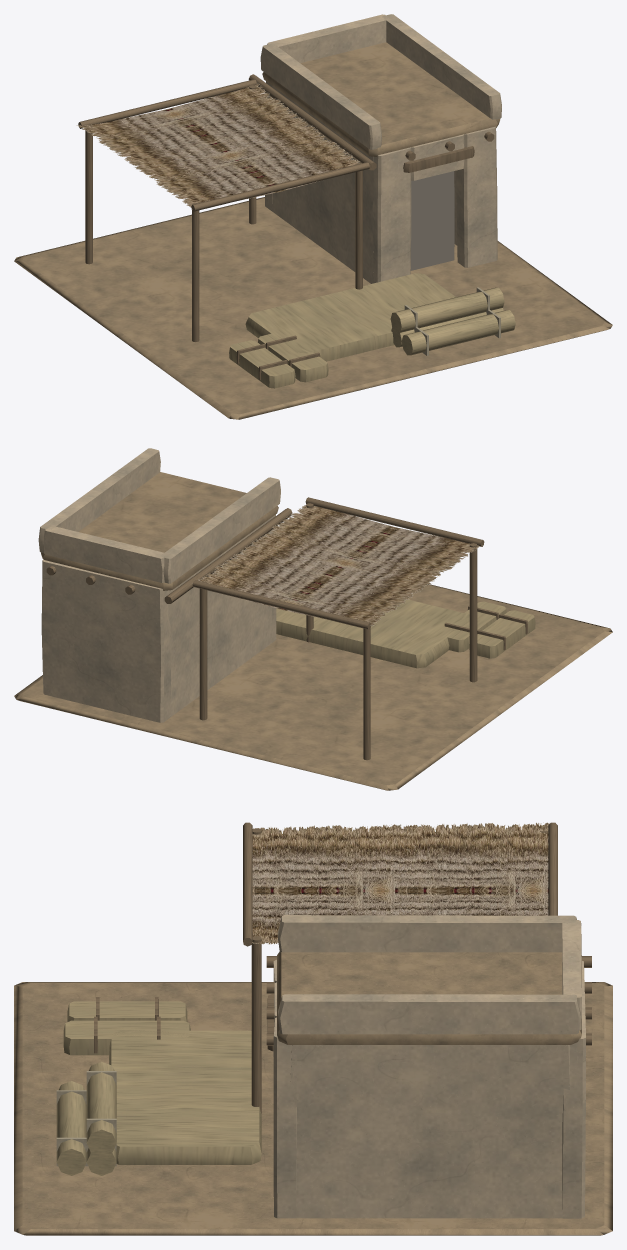
File: matYard.glb
3 renders of one model, top to bottom at view 1: azimuth 30°, elevation 25°; view 2: azimuth 150°, elevation 25°; view 3: azimuth 270°, elevation 25°, orthographic. The views are drawn at different scales.
Visible parts, largest first — view 1: original-matYard-alluvial-earth, original-matYard-warm-clay-plaster, original-matYard-laid-reed-thatch, original-matYard-reed-mat, original-matYard-worn-timber, original-matYard-game-door-shadow; view 2: original-matYard-alluvial-earth, original-matYard-warm-clay-plaster, original-matYard-laid-reed-thatch, original-matYard-reed-mat, original-matYard-worn-timber; view 3: original-matYard-warm-clay-plaster, original-matYard-alluvial-earth, original-matYard-reed-mat, original-matYard-laid-reed-thatch, original-matYard-worn-timber, workshop-matYard-courtyard-cloth.
Part boxes in pixels (x1,y1,x2,y2): original-matYard-alluvial-earth: (14,42,612,419); original-matYard-warm-clay-plaster: (260,14,501,283); original-matYard-laid-reed-thatch: (76,83,361,209); original-matYard-reed-mat: (229,273,515,388); original-matYard-worn-timber: (78,74,494,380); original-matYard-game-door-shadow: (410,171,454,270); original-matYard-alluvial-earth: (14,472,612,790); original-matYard-warm-clay-plaster: (38,448,280,722); original-matYard-laid-reed-thatch: (192,505,482,625); original-matYard-reed-mat: (276,599,535,668); original-matYard-worn-timber: (46,497,527,760); original-matYard-warm-clay-plaster: (273,915,585,1218); original-matYard-alluvial-earth: (14,952,612,1235); original-matYard-reed-mat: (56,1001,261,1175); original-matYard-laid-reed-thatch: (252,822,549,944); original-matYard-worn-timber: (94,822,591,1113); workshop-matYard-courtyard-cloth: (56,1071,116,1166).
Bounding box in the file's own units: 5.37 × 2.23 × 5.37.
7 materials, 6 textured.
